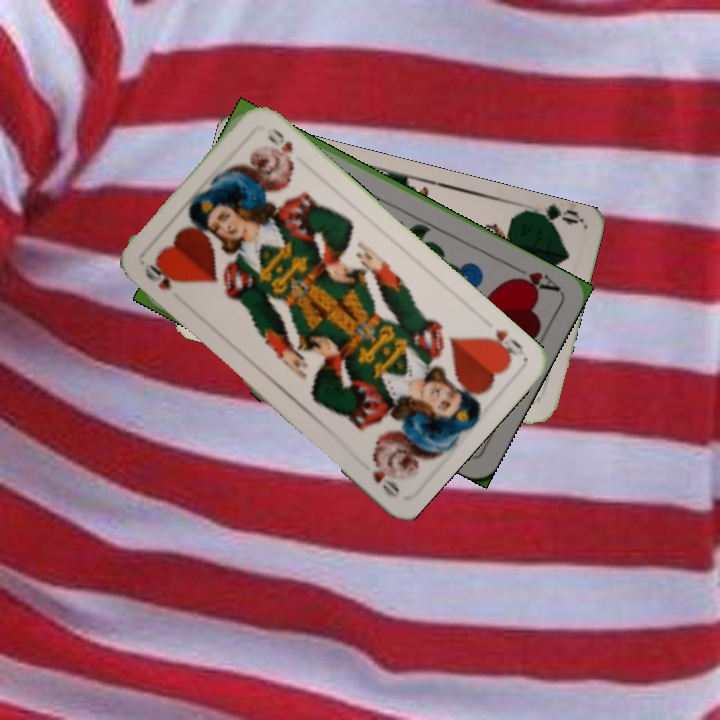GO: (520, 202, 581, 232)
HA: (507, 261, 563, 295)
HO: (478, 325, 526, 364), (140, 259, 175, 293)
